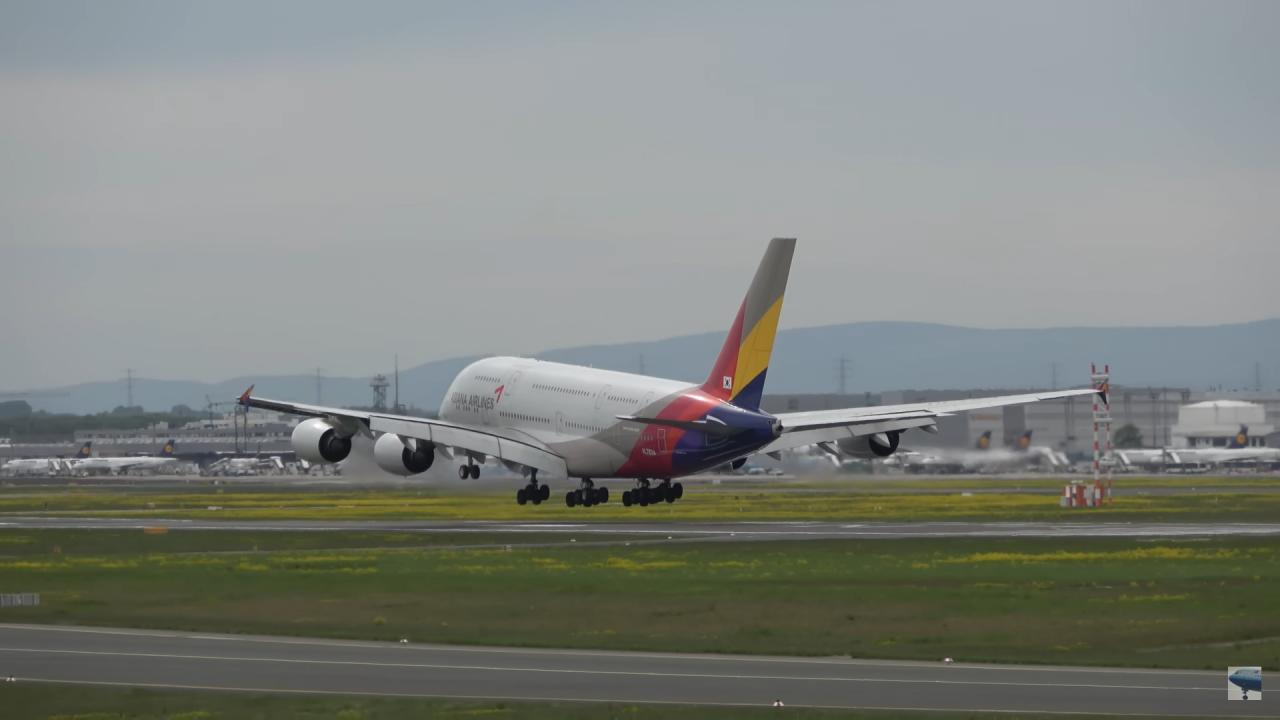Airplane: (227, 227, 1114, 525)
